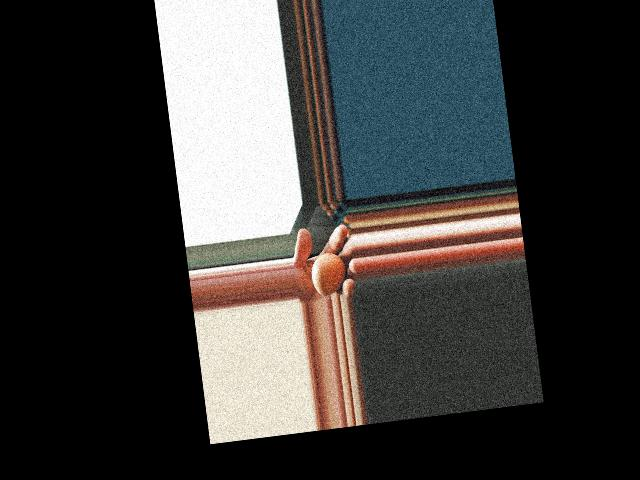egg: (309, 251, 349, 298)
